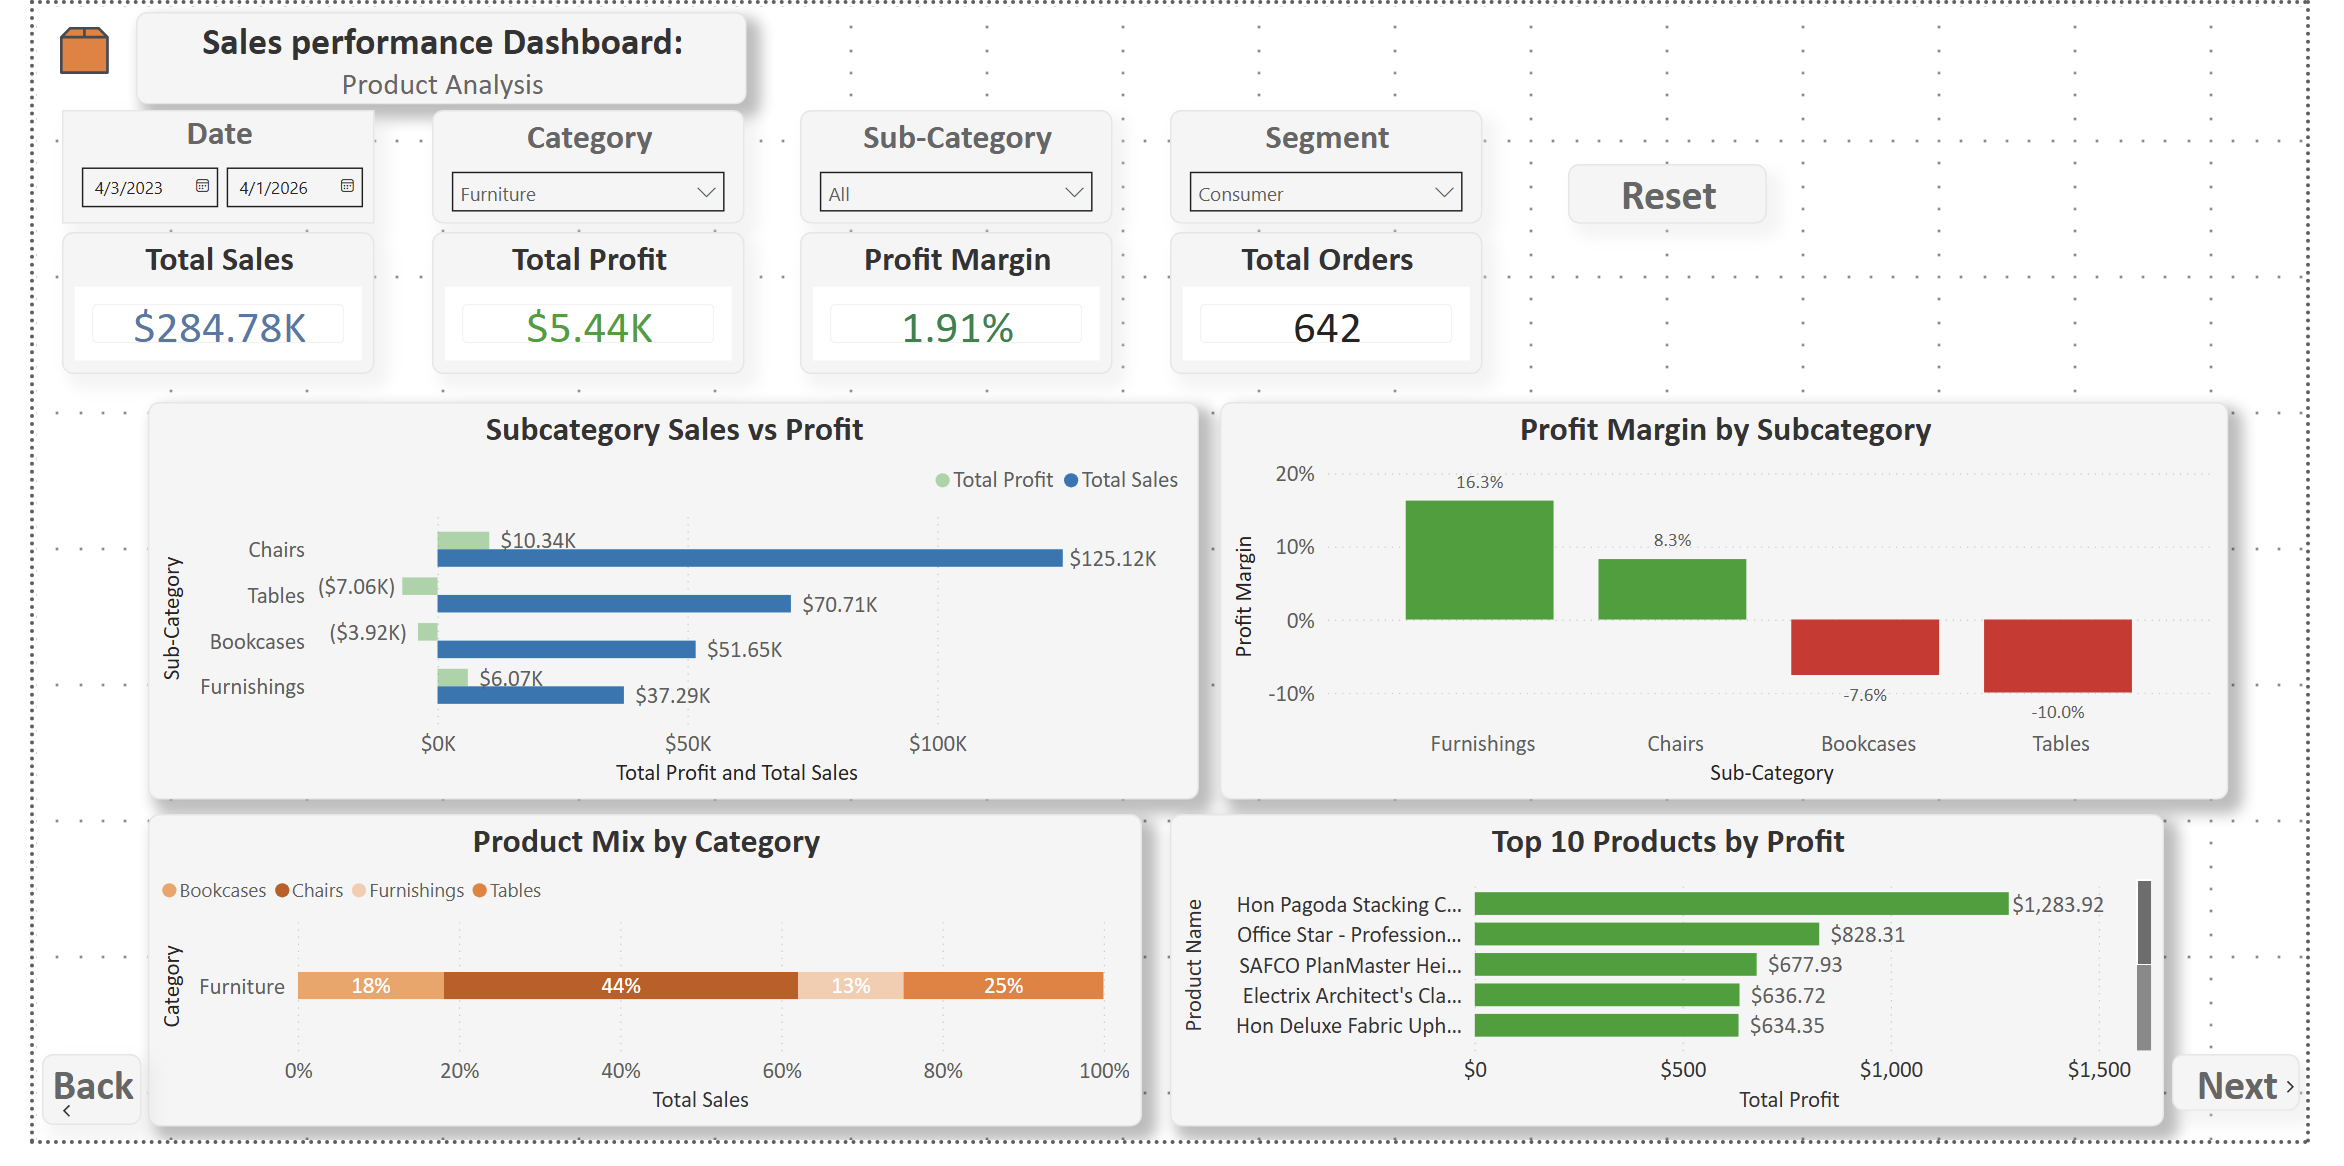

The dashboard page shown, as its layout file describes it:
{"tool":"powerbi","page":{"name":"Product Performance","canvas":[1600,800],"ordinal":1},"visuals":[{"type":"clusteredBarChart","title":"Subcategory Sales vs Profit","fields":{"Y":["samplesuperstore.Total Profit","samplesuperstore.Total Sales"],"Category":["samplesuperstore.Sub-Category"]},"box":[80,280,740,280],"z":0},{"type":"clusteredColumnChart","title":"Profit Margin by Subcategory","fields":{"Category":["samplesuperstore.Sub-Category"],"Y":["samplesuperstore.Profit Margin"]},"box":[835,280,710,280],"z":1000},{"type":"clusteredBarChart","title":"Top 10 Products by Profit ","fields":{"Category":["samplesuperstore.Product Name"],"Y":["samplesuperstore.Total Profit"]},"box":[800,570,700,220],"z":2000},{"type":"hundredPercentStackedBarChart","title":"Product Mix by Category","fields":{"Category":["samplesuperstore.Category"],"Y":["samplesuperstore.Total Sales"],"Series":["samplesuperstore.Sub-Category"]},"box":[80,570,700,220],"z":3000},{"type":"textbox","title":"Business performance Dashboard:","box":[72,5,430,65],"z":4000},{"type":"slicer","title":"Date","fields":{"Values":["samplesuperstore.Order Date"]},"box":[20,75,220,80],"z":5000},{"type":"slicer","title":"Category","fields":{"Values":["samplesuperstore.Category"]},"box":[280,75,220,80],"z":6000},{"type":"actionButton","title":"Reset","box":[1080,113,140,42],"z":7000},{"type":"slicer","title":"Sub-Category","fields":{"Values":["samplesuperstore.Sub-Category"]},"box":[540,75,220,80],"z":8000},{"type":"actionButton","title":"Back","box":[5,740,70,50],"z":9000},{"type":"actionButton","title":"Next","box":[1505,740,90,40],"z":10000},{"type":"image","box":[1580,753,18,18],"z":11000},{"type":"image","box":[14,770,18,18],"z":12000},{"type":"image","box":[15,12,40,40],"z":13000},{"type":"slicer","title":"Segment","fields":{"Values":["samplesuperstore.Segment"]},"box":[800,75,220,80],"z":14000},{"type":"cardVisual","title":"Total Sales","fields":{"Data":["samplesuperstore.Total Sales"]},"box":[20,160,220,100],"z":15000},{"type":"cardVisual","title":"Total Profit","fields":{"Data":["samplesuperstore.Total Profit"]},"box":[280,160,220,100],"z":16000},{"type":"cardVisual","title":"Profit Margin","fields":{"Data":["samplesuperstore.Profit Margin"]},"box":[540,160,220,100],"z":17000},{"type":"cardVisual","title":"Total Orders","fields":{"Data":["samplesuperstore.Total Orders"]},"box":[800,160,220,100],"z":18000}]}

Visuals, with their boxes in screenshot pixels (x1, y1, x2, y2), scaled from the page's 1600x800 canvas onto the 2344x1166 screenshot:
"Subcategory Sales vs Profit" clusteredBarChart: rect(117, 408, 1201, 816)
"Profit Margin by Subcategory" clusteredColumnChart: rect(1223, 408, 2263, 816)
"Top 10 Products by Profit " clusteredBarChart: rect(1172, 831, 2198, 1151)
"Product Mix by Category" hundredPercentStackedBarChart: rect(117, 831, 1143, 1151)
"Business performance Dashboard:" textbox: rect(105, 7, 735, 102)
"Date" slicer: rect(29, 109, 352, 226)
"Category" slicer: rect(410, 109, 732, 226)
"Reset" actionButton: rect(1582, 165, 1787, 226)
"Sub-Category" slicer: rect(791, 109, 1113, 226)
"Back" actionButton: rect(7, 1079, 110, 1151)
"Next" actionButton: rect(2205, 1079, 2337, 1137)
image: rect(2315, 1097, 2341, 1124)
image: rect(21, 1122, 47, 1149)
image: rect(22, 17, 81, 76)
"Segment" slicer: rect(1172, 109, 1494, 226)
"Total Sales" cardVisual: rect(29, 233, 352, 379)
"Total Profit" cardVisual: rect(410, 233, 732, 379)
"Profit Margin" cardVisual: rect(791, 233, 1113, 379)
"Total Orders" cardVisual: rect(1172, 233, 1494, 379)
